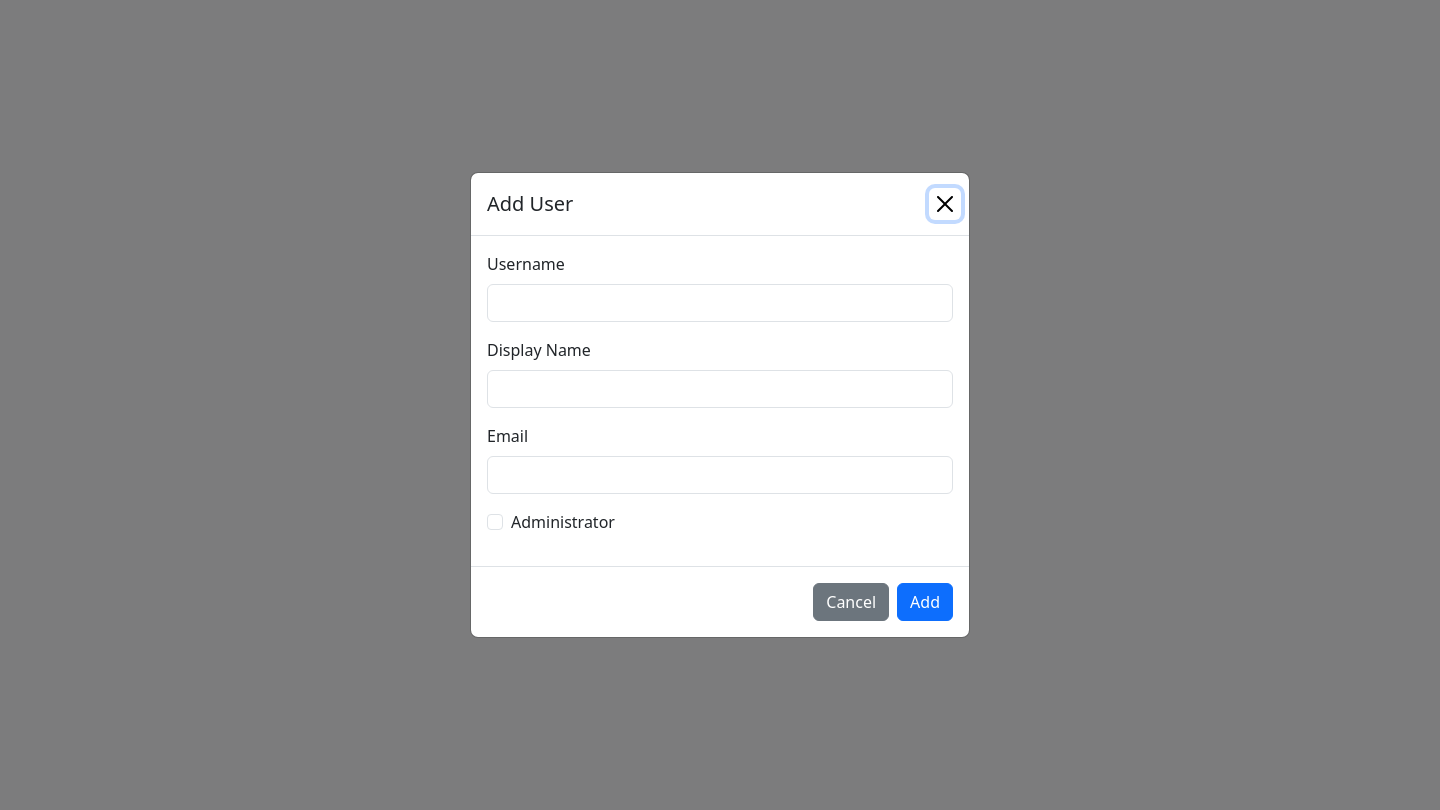
Test: CreateUserModal › shows error message when creation fails
The width and height of the screenshot is (1440, 810).
Type "jdoe" into the field labelled "Username".
click(720, 303); type("jdoe")  # box [487,284,953,322]
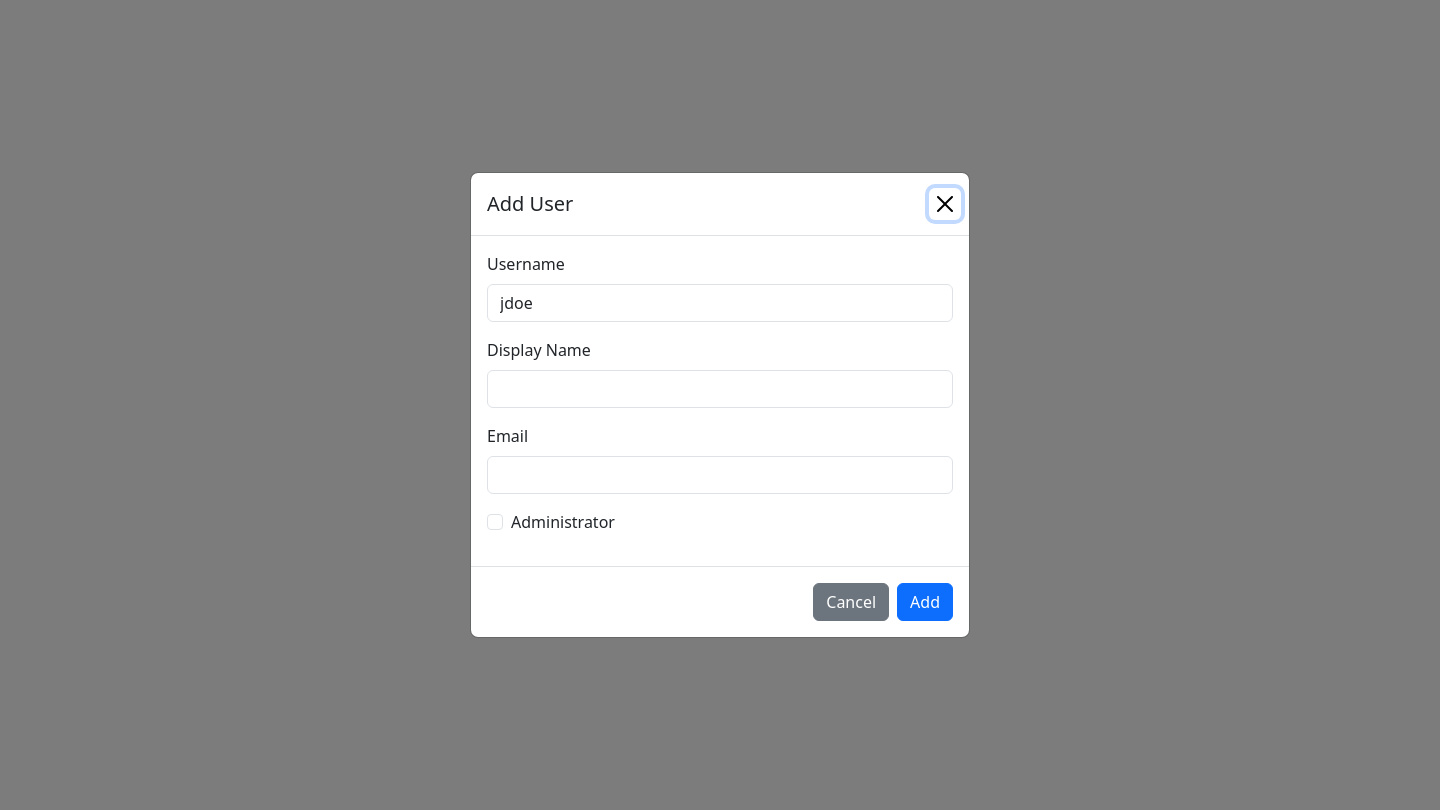
Type "John Doe" into the field labelled "Display Name".
click(720, 389); type("John Doe")  # box [487,370,953,408]
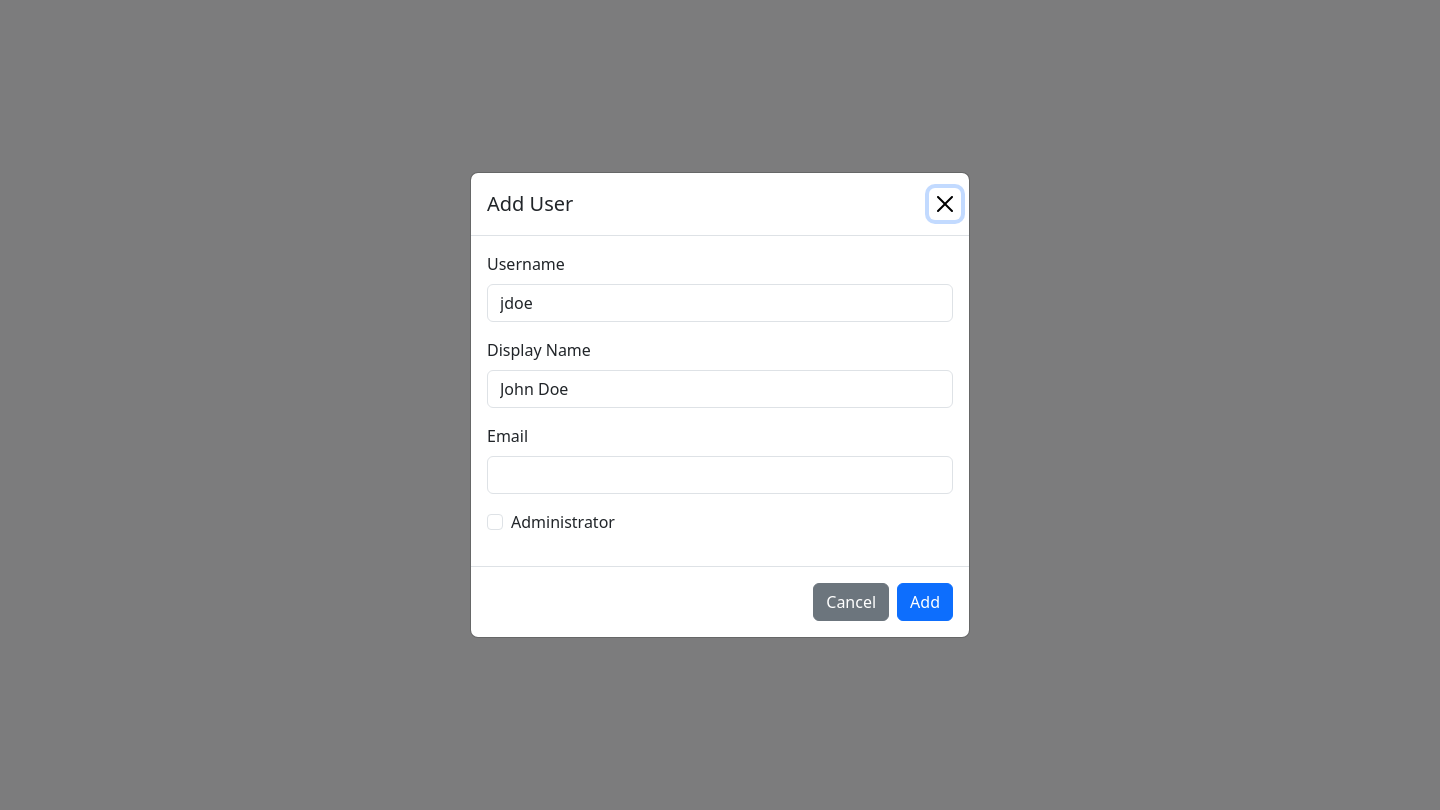
Type "jdoe@example.com" into the field labelled "Email".
click(720, 475); type("jdoe@example.com")  # box [487,456,953,494]
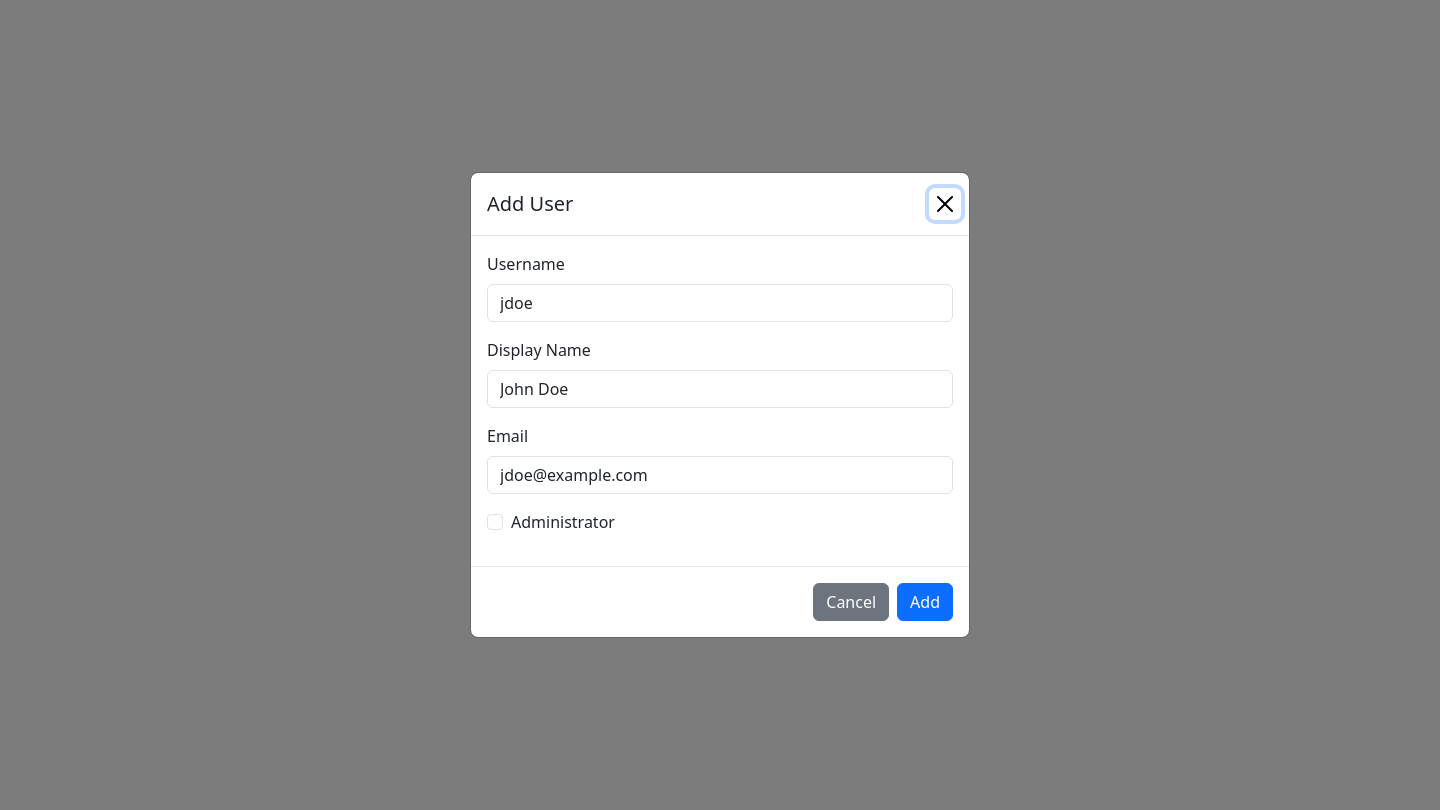
Click the button "Add".
click(925, 602)  # box [897,583,953,621]
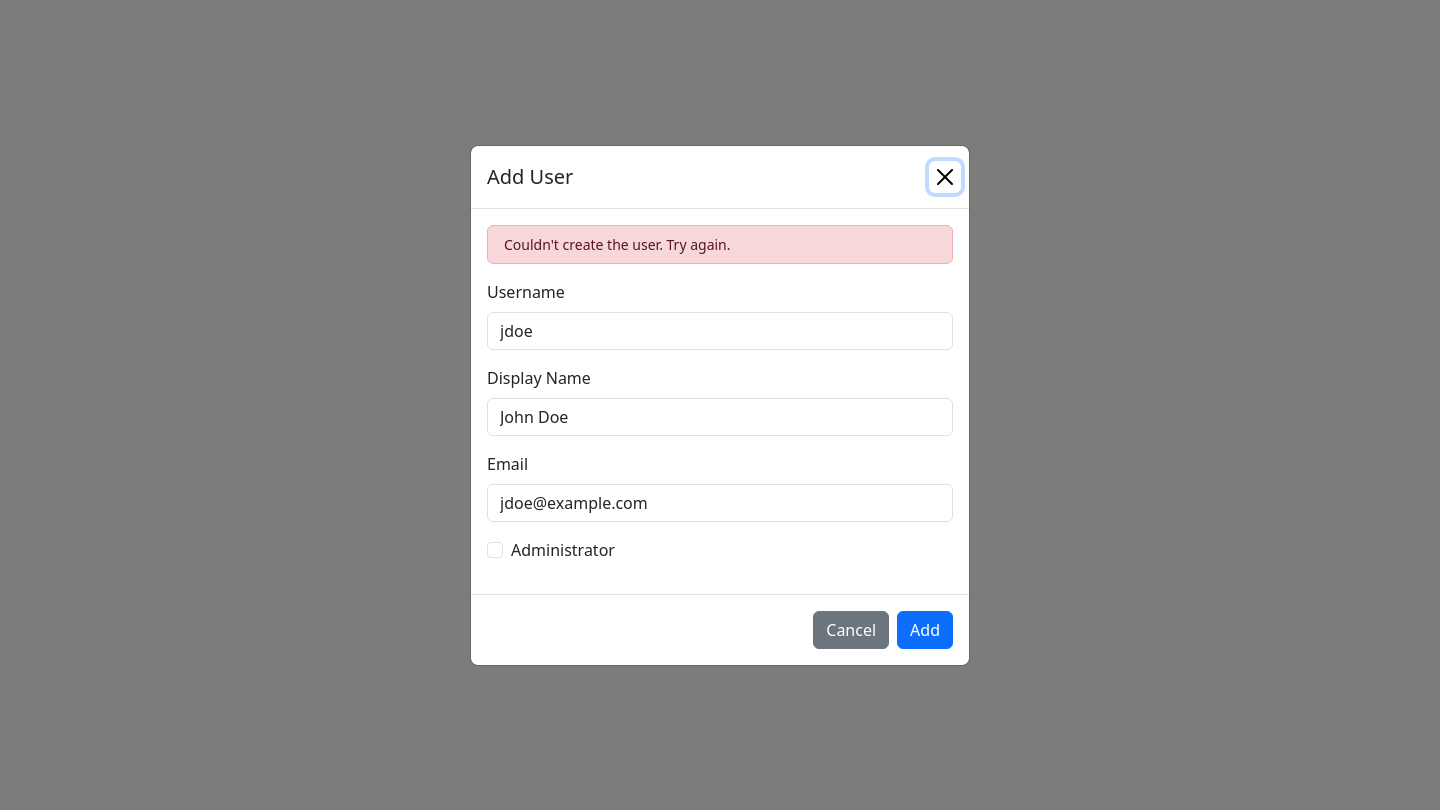
Result: the message reads "Couldn't create the user. Try again." at [504,234,730,254]
